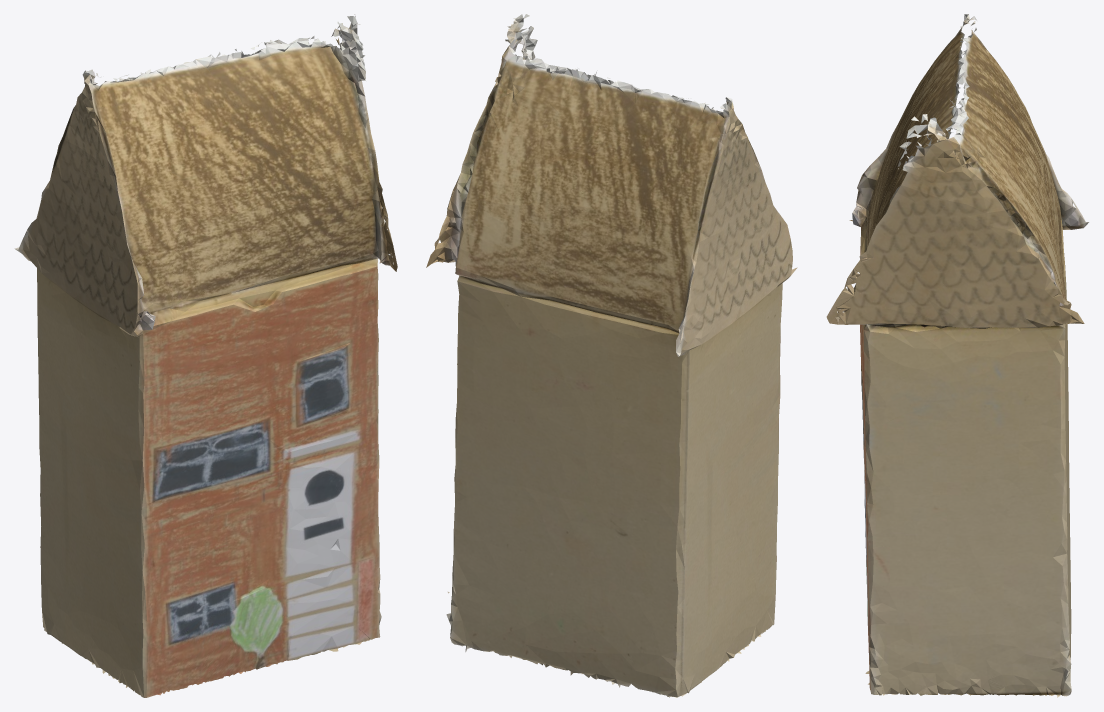
The picture shows the model from 3 angles, left to right: view 1: azimuth 30°, elevation 25°; view 2: azimuth 150°, elevation 25°; view 3: azimuth 270°, elevation 25°; orthographic projection. The views are drawn at different scales.
Parts seen in each view (by area): view 1: Object_0; view 2: Object_0; view 3: Object_0.
Boxes of the visible parts, <box> form: Object_0: <box>14,14,397,697</box>; Object_0: <box>426,14,797,697</box>; Object_0: <box>826,14,1088,697</box>.
Size of the model in its own units: 10.9 by 23.55 by 9.56.
1 material, 1 textured.
